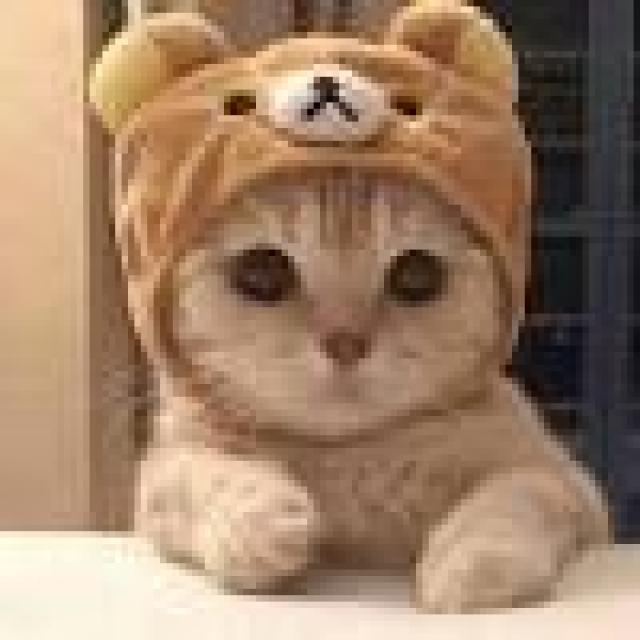Cat: (126, 152, 616, 618)
